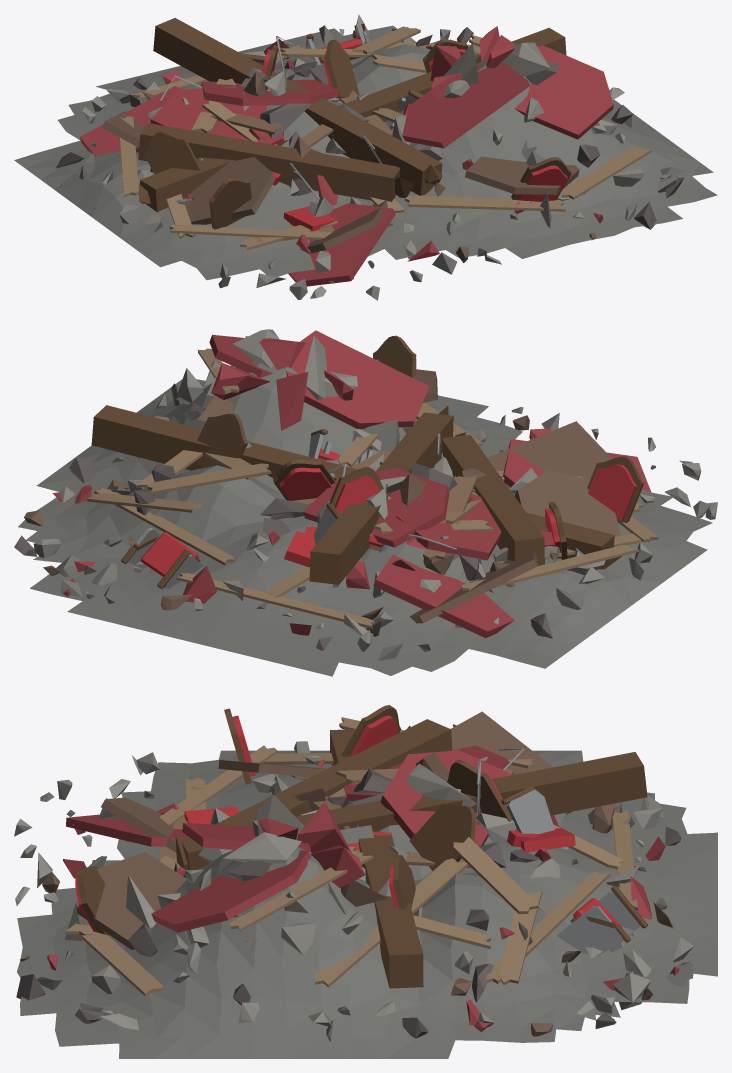
The model's file is rubble_field_a.glb.
The picture shows the model from 3 angles, top to bottom: view 1: azimuth 30°, elevation 25°; view 2: azimuth 150°, elevation 25°; view 3: azimuth 270°, elevation 25°; orthographic projection. The views are drawn at different scales.
Parts seen in each view (by area): view 1: concrete_dark__rubble_field_a__solid, dark_wood__rubble_field_a__solid, wall_theater__rubble_field_a__solid, concrete__rubble_field_a__solid, plank__rubble_field_a__solid, ceiling_theater__rubble_field_a__solid, stone__rubble_field_a__solid, velvet__rubble_field_a__solid, wood__rubble_field_a__solid, steel__rubble_field_a__solid; view 2: concrete_dark__rubble_field_a__solid, wall_theater__rubble_field_a__solid, dark_wood__rubble_field_a__solid, concrete__rubble_field_a__solid, ceiling_theater__rubble_field_a__solid, plank__rubble_field_a__solid, velvet__rubble_field_a__solid, stone__rubble_field_a__solid, steel__rubble_field_a__solid, wood__rubble_field_a__solid; view 3: concrete_dark__rubble_field_a__solid, dark_wood__rubble_field_a__solid, concrete__rubble_field_a__solid, plank__rubble_field_a__solid, wall_theater__rubble_field_a__solid, ceiling_theater__rubble_field_a__solid, stone__rubble_field_a__solid, steel__rubble_field_a__solid, velvet__rubble_field_a__solid, wood__rubble_field_a__solid.
Boxes of the visible parts, x1=… form: concrete_dark__rubble_field_a__solid: x1=14, y1=25, x2=717, y2=280; dark_wood__rubble_field_a__solid: x1=138, y1=18, x2=571, y2=229; wall_theater__rubble_field_a__solid: x1=80, y1=23, x2=613, y2=286; concrete__rubble_field_a__solid: x1=79, y1=14, x2=684, y2=300; plank__rubble_field_a__solid: x1=119, y1=26, x2=651, y2=250; ceiling_theater__rubble_field_a__solid: x1=102, y1=27, x2=596, y2=262; stone__rubble_field_a__solid: x1=56, y1=27, x2=683, y2=283; velvet__rubble_field_a__solid: x1=209, y1=38, x2=567, y2=231; wood__rubble_field_a__solid: x1=210, y1=85, x2=392, y2=241; steel__rubble_field_a__solid: x1=159, y1=25, x2=417, y2=199; concrete_dark__rubble_field_a__solid: x1=18, y1=361, x2=712, y2=676; wall_theater__rubble_field_a__solid: x1=52, y1=330, x2=651, y2=637; dark_wood__rubble_field_a__solid: x1=91, y1=335, x2=644, y2=588; concrete__rubble_field_a__solid: x1=33, y1=329, x2=717, y2=660; ceiling_theater__rubble_field_a__solid: x1=24, y1=369, x2=620, y2=627; plank__rubble_field_a__solid: x1=87, y1=348, x2=658, y2=629; velvet__rubble_field_a__solid: x1=141, y1=358, x2=636, y2=576; stone__rubble_field_a__solid: x1=14, y1=336, x2=655, y2=650; steel__rubble_field_a__solid: x1=128, y1=433, x2=504, y2=588; wood__rubble_field_a__solid: x1=289, y1=451, x2=477, y2=560; concrete_dark__rubble_field_a__solid: x1=17, y1=750, x2=717, y2=1058; dark_wood__rubble_field_a__solid: x1=77, y1=705, x2=647, y2=988; concrete__rubble_field_a__solid: x1=14, y1=724, x2=693, y2=1041; plank__rubble_field_a__solid: x1=65, y1=717, x2=637, y2=996; wall_theater__rubble_field_a__solid: x1=47, y1=736, x2=692, y2=1032; ceiling_theater__rubble_field_a__solid: x1=20, y1=711, x2=673, y2=1036; stone__rubble_field_a__solid: x1=16, y1=768, x2=681, y2=1038; steel__rubble_field_a__solid: x1=256, y1=748, x2=640, y2=956; velvet__rubble_field_a__solid: x1=75, y1=715, x2=621, y2=932; wood__rubble_field_a__solid: x1=157, y1=768, x2=514, y2=868.
Bounding box in the file's own units: 6 × 1.7 × 5.79.
